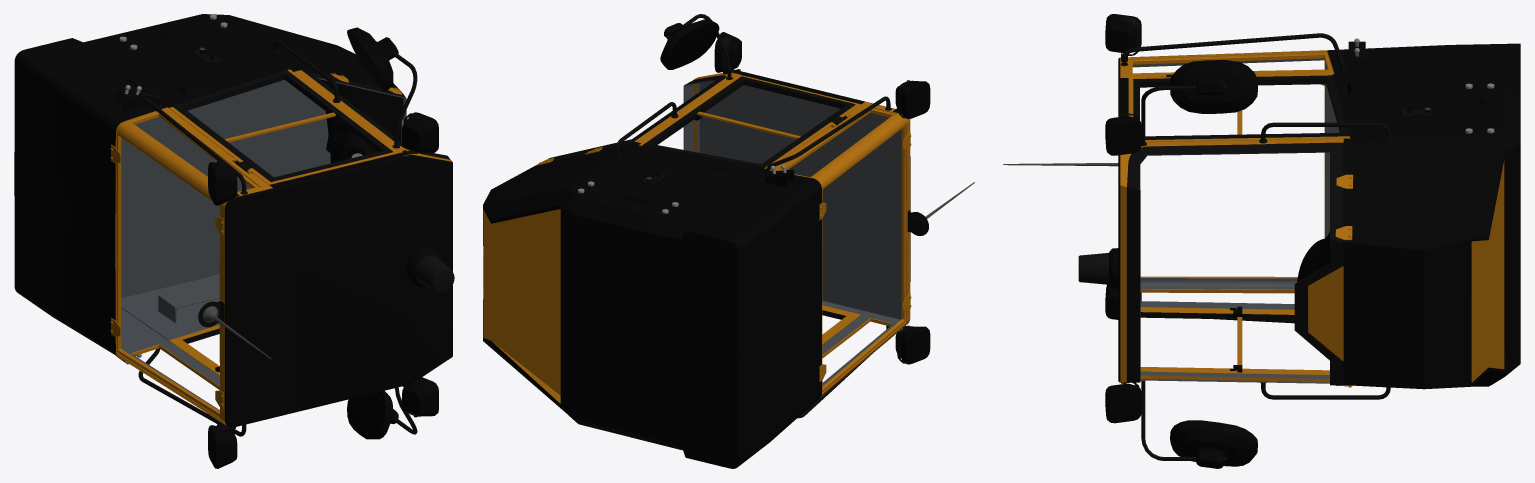
File: cabin.obj
3 renders of one model, left to right at view 1: azimuth 30°, elevation 25°; view 2: azimuth 150°, elevation 25°; view 3: azimuth 270°, elevation 25°, orthographic. The views are drawn at different scales.
Parts seen in each view (by area): view 1: TODO:_some_name_here; view 2: TODO:_some_name_here; view 3: TODO:_some_name_here.
Boxes of the visible parts, x1,y1,x2,y2 form: TODO:_some_name_here: (14,14,454,468); TODO:_some_name_here: (483,14,974,468); TODO:_some_name_here: (1003,14,1520,468).
Size of the model in its own units: 1.73 by 2.03 by 2.36.
